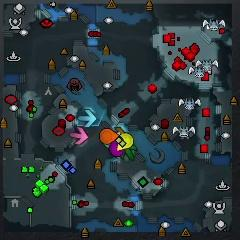p3: (109, 141, 125, 156)
p4: (117, 133, 134, 150)
p5: (100, 129, 118, 144)
x1: (70, 127, 88, 144)
x3: (78, 109, 96, 127)
x4: (121, 145, 136, 160)
x5: (115, 126, 125, 134)
